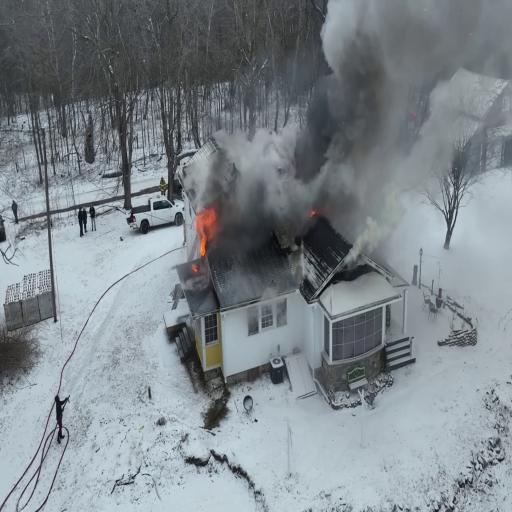fire: (193, 204, 218, 246)
